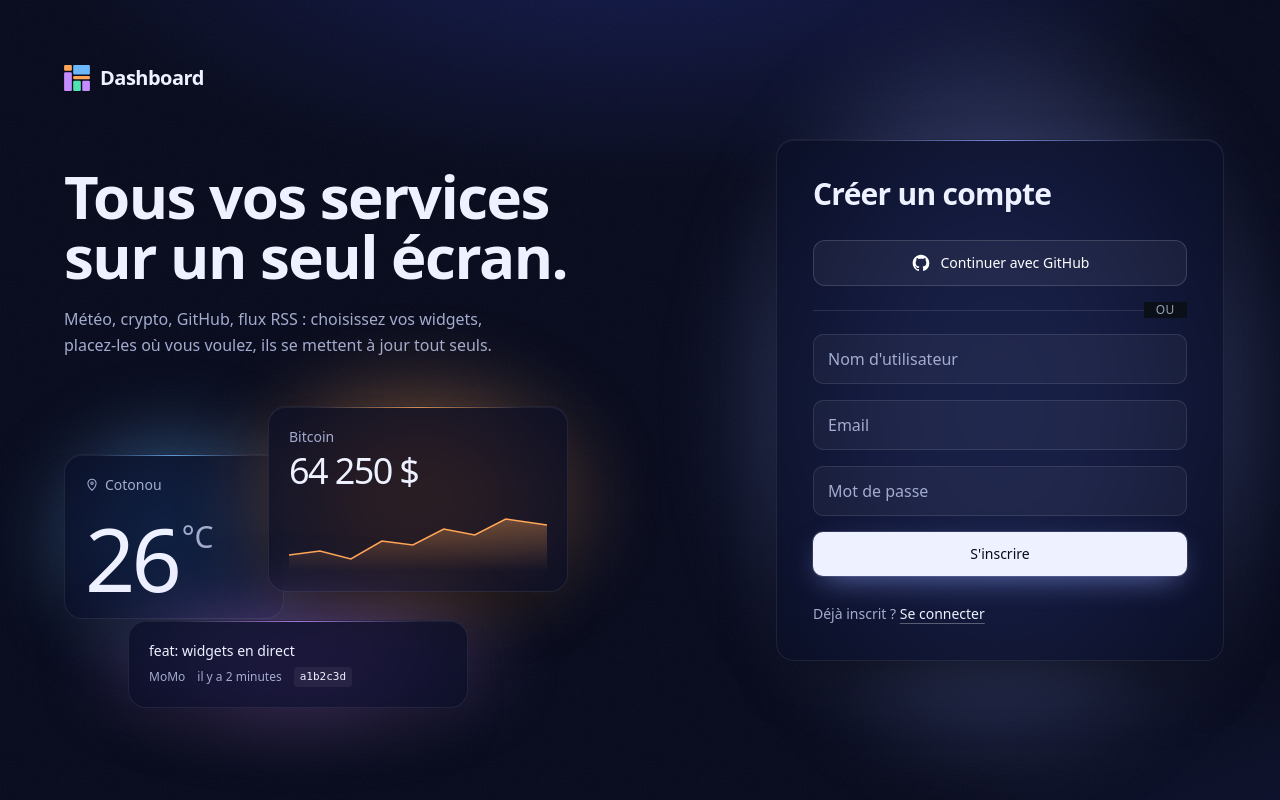
Register page › affiche un écran d'attente et NE connecte PAS l'utilisateur si le compte n'est pas confirmé
In the field with placeholder "Nom d'utilisateur": (1000, 359) [813, 334, 1187, 384], type "MoMo"
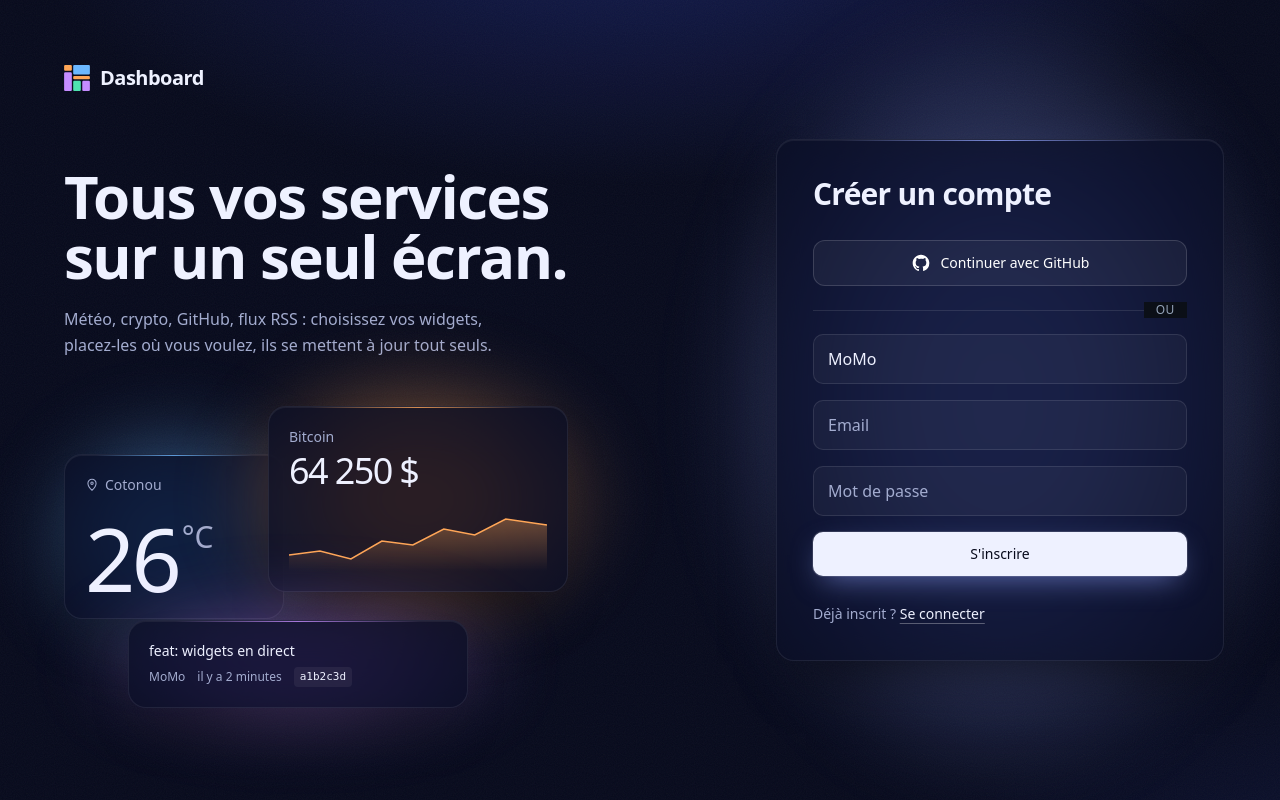
In the field with placeholder "Email": (1000, 425) [813, 400, 1187, 450], type "momo@exemple.org"
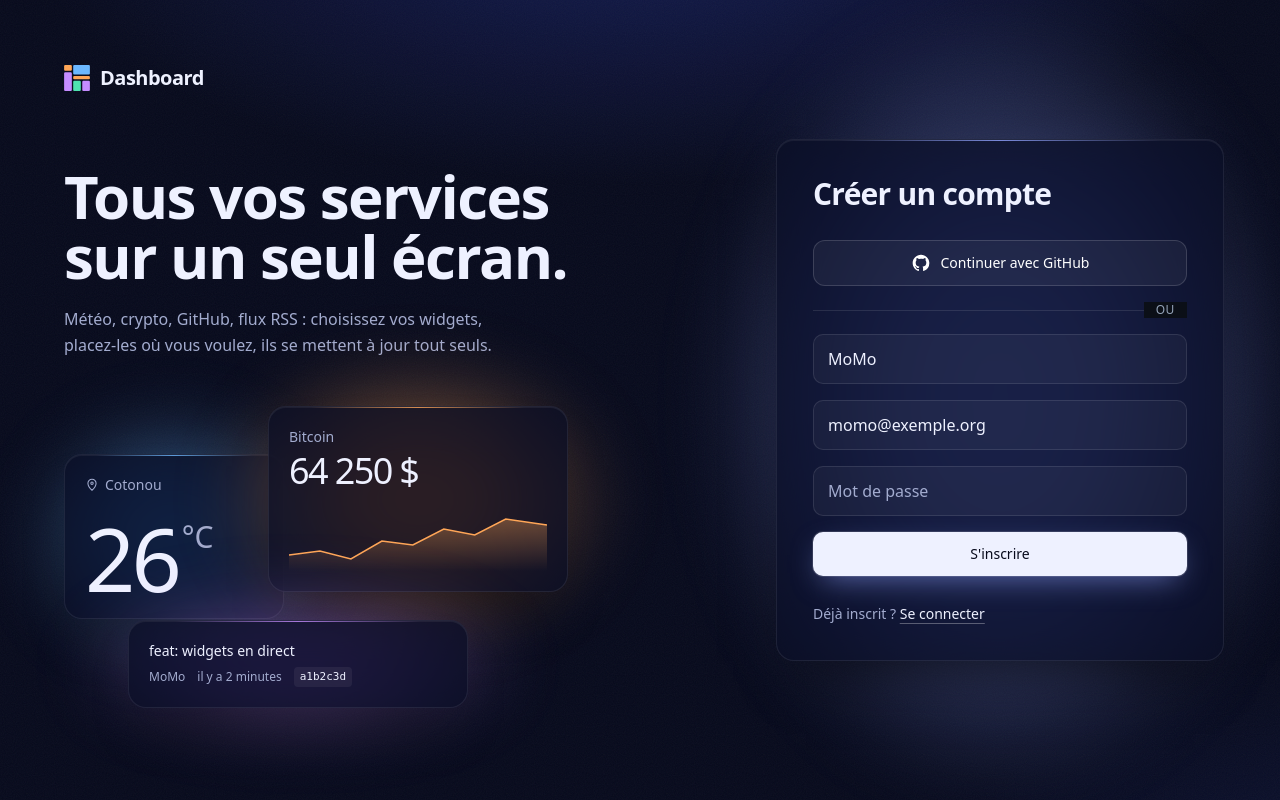
In the password field with placeholder "Mot de passe": (1000, 491) [813, 466, 1187, 516], type "secret123"
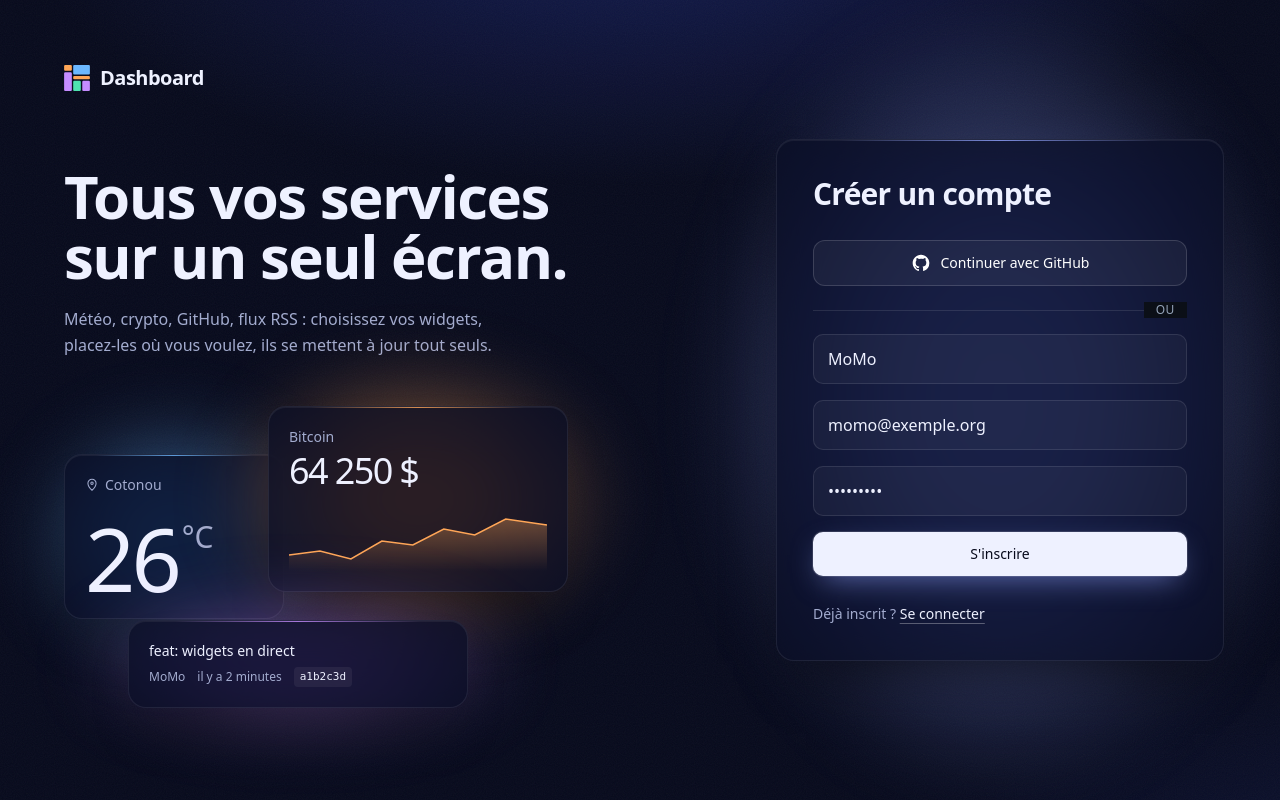
Click the button "S'inscrire": (1000, 554) [813, 532, 1187, 576]
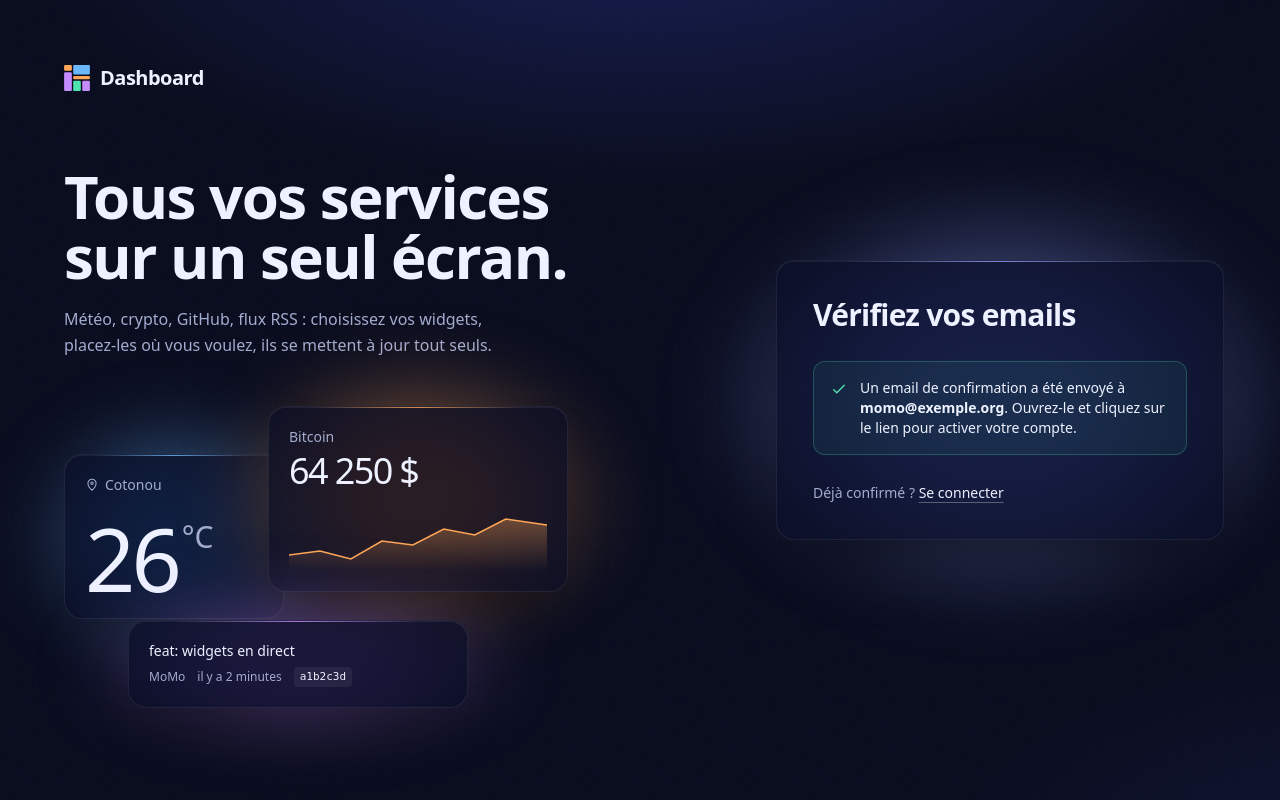
Now the heading "Vérifiez vos emails" is shown, box [813, 294, 1076, 335]
Now the text "momo@exemple.org" is shown, box [860, 398, 1004, 417]
